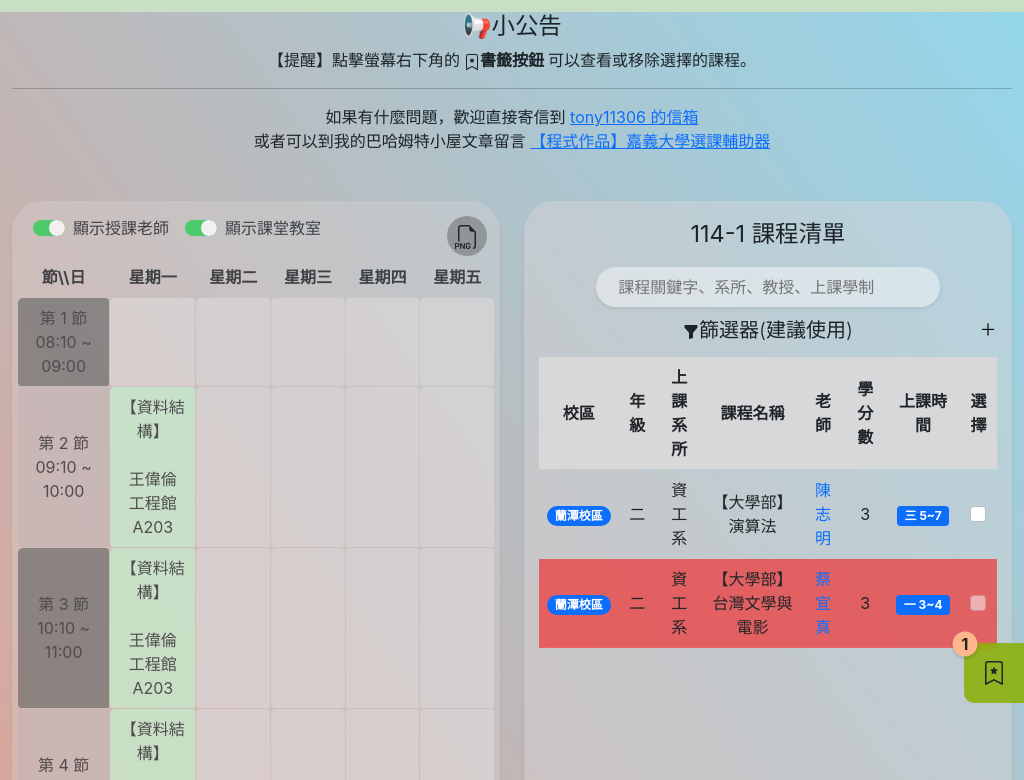
Scenario: 匯出完成後桌機也看得到提示（改版前只有一個 confirm）
Click the button titled "下載課表" at (467, 236), box [447, 216, 487, 256]
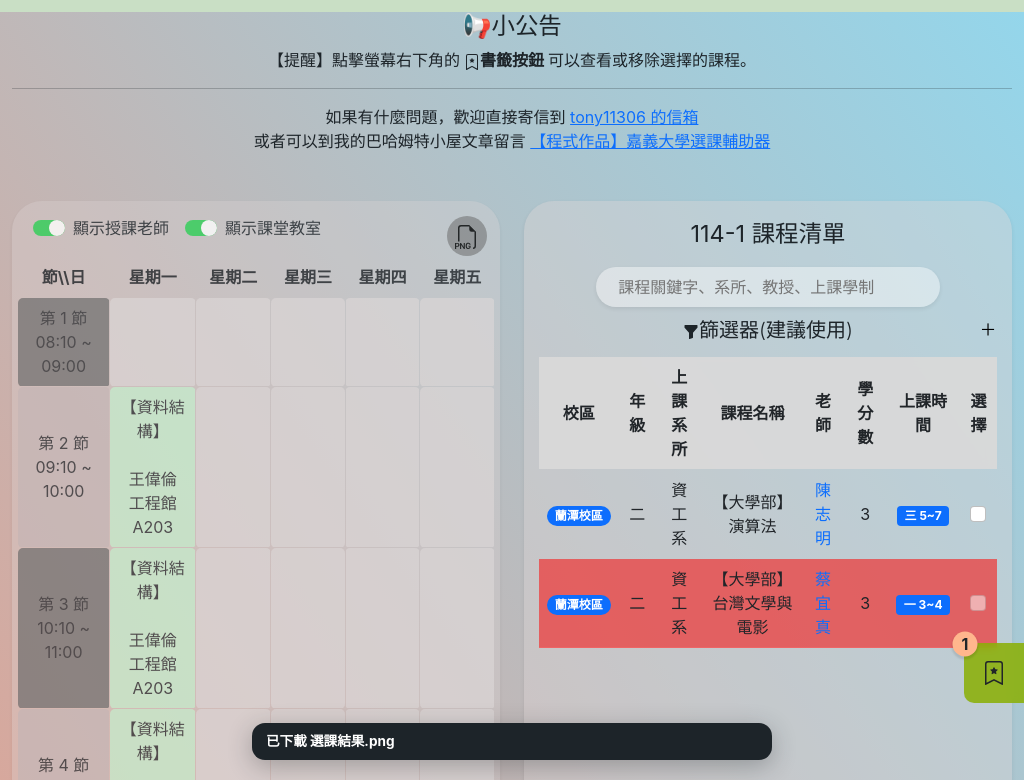
Now the text "已下載 選課結果.png" is shown, box [266, 733, 394, 749]
